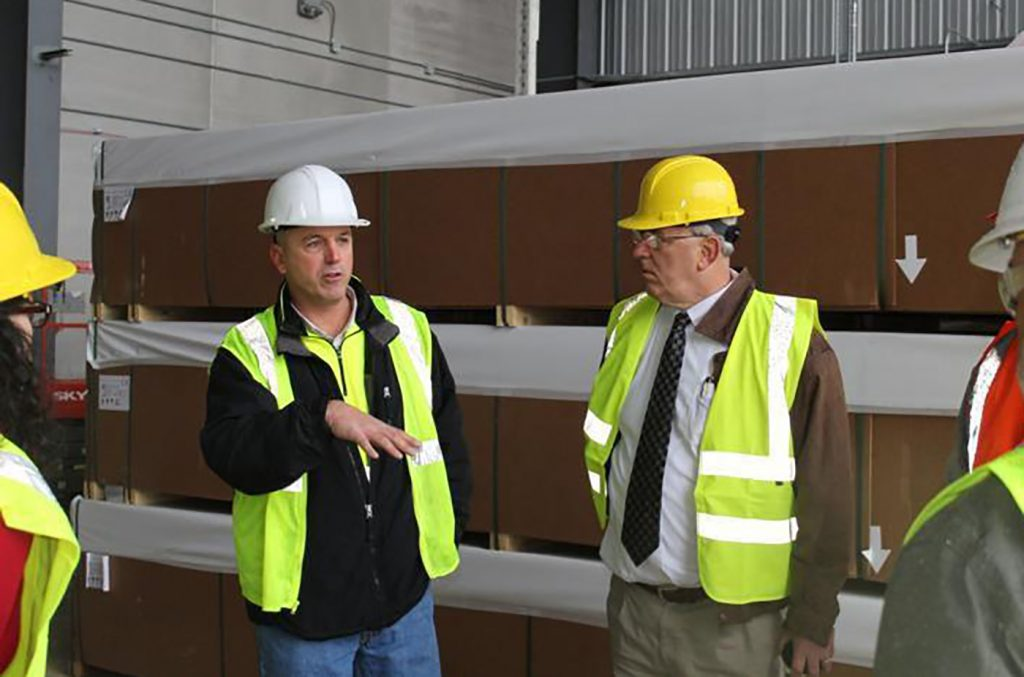Helmet: (613, 150, 757, 319), (250, 159, 396, 323)
Reflective vest: (578, 284, 824, 612), (221, 284, 461, 620)
